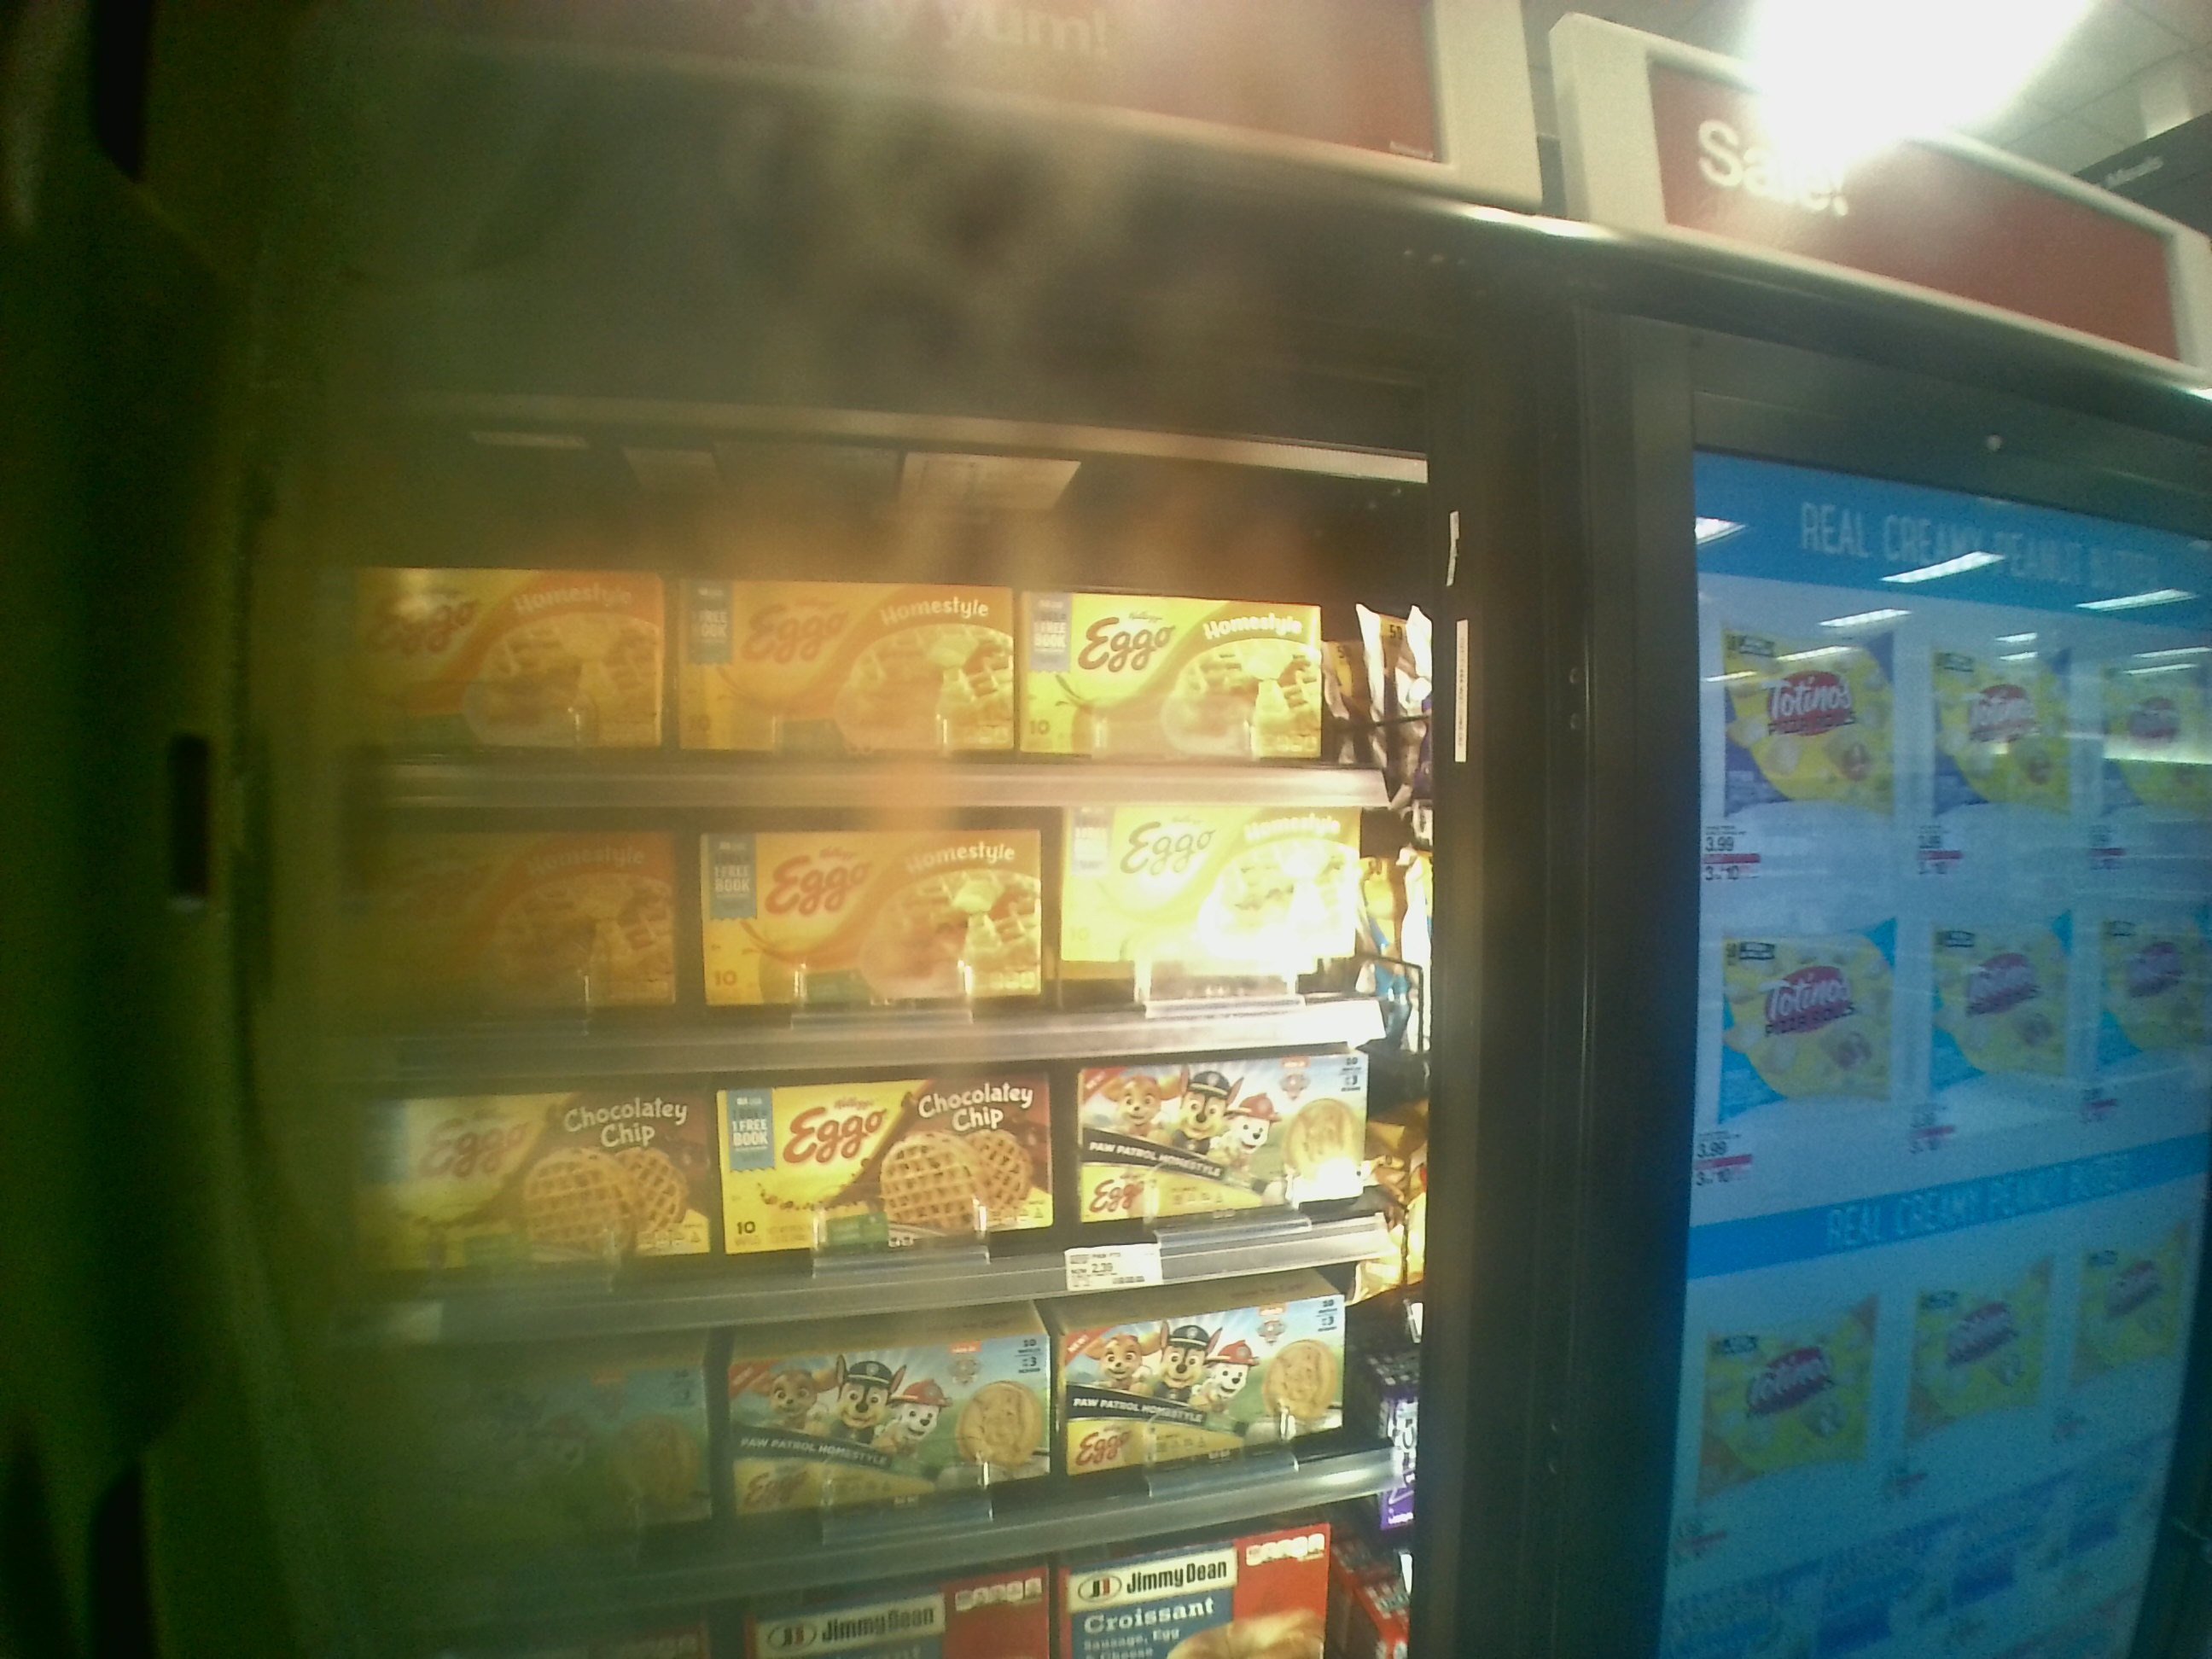shelf: (354, 481, 1425, 807), (354, 1033, 1420, 1337), (355, 798, 1416, 1087)
